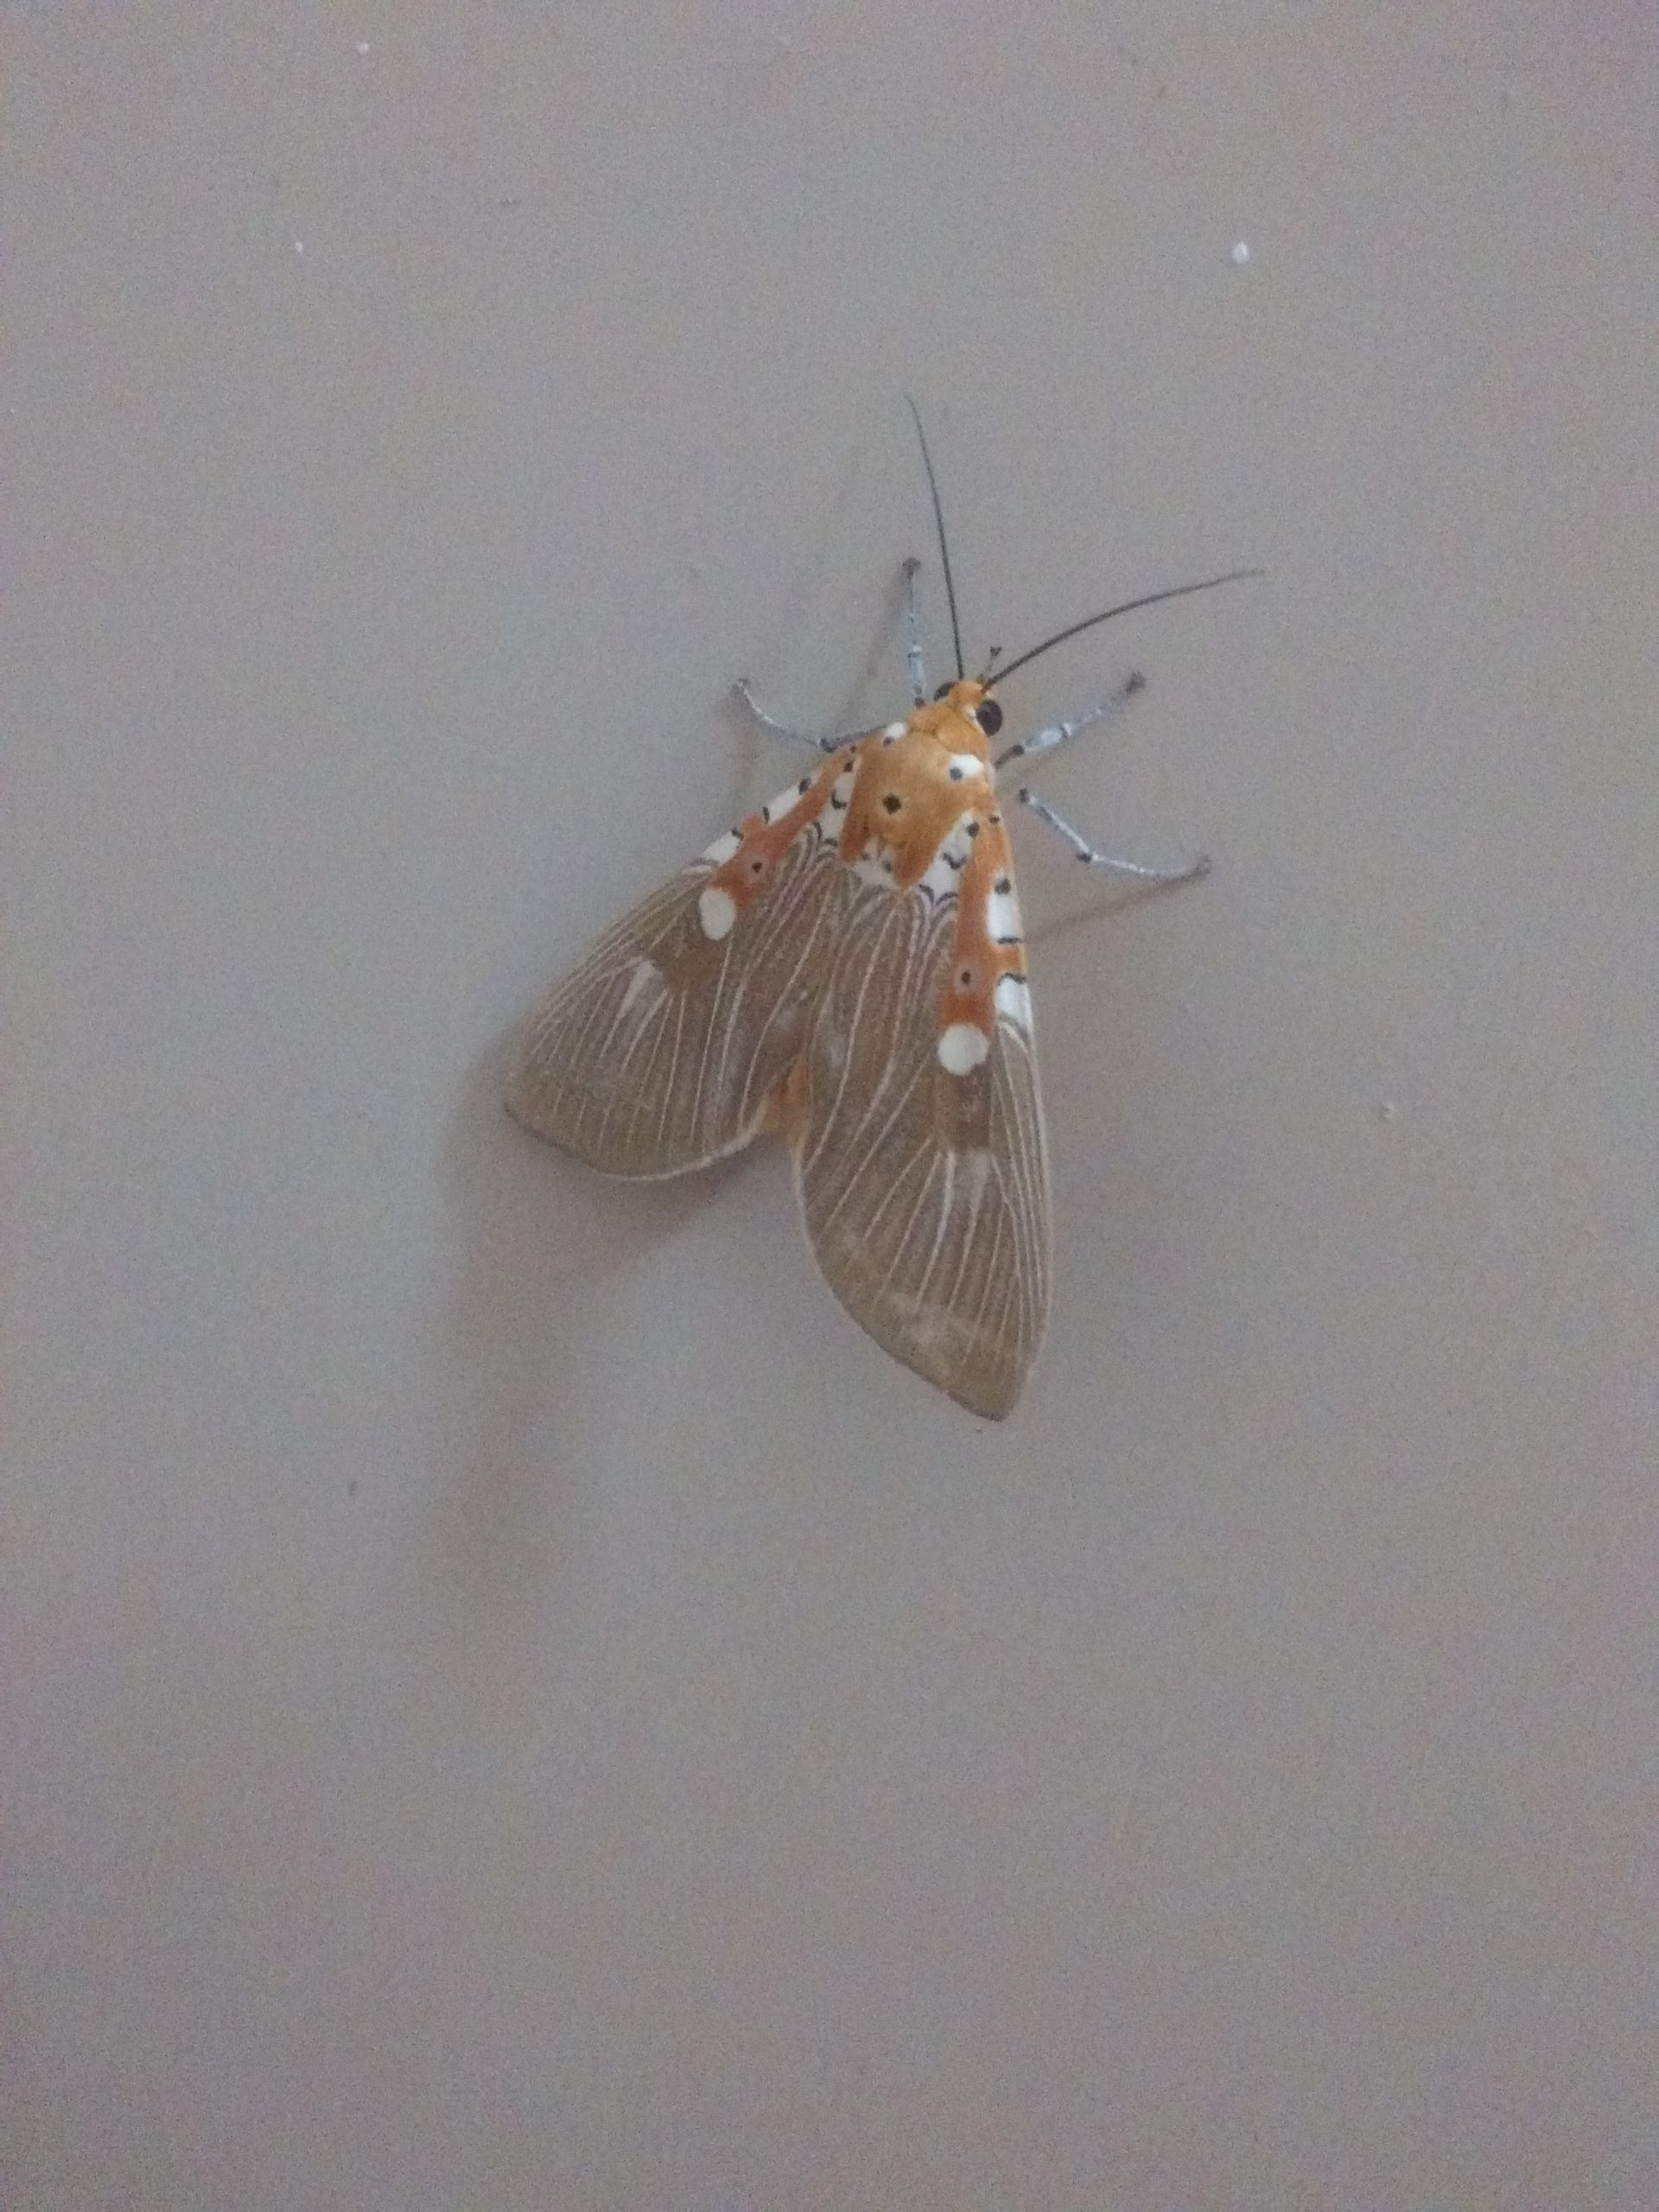feie: (455, 603, 1269, 1409)
